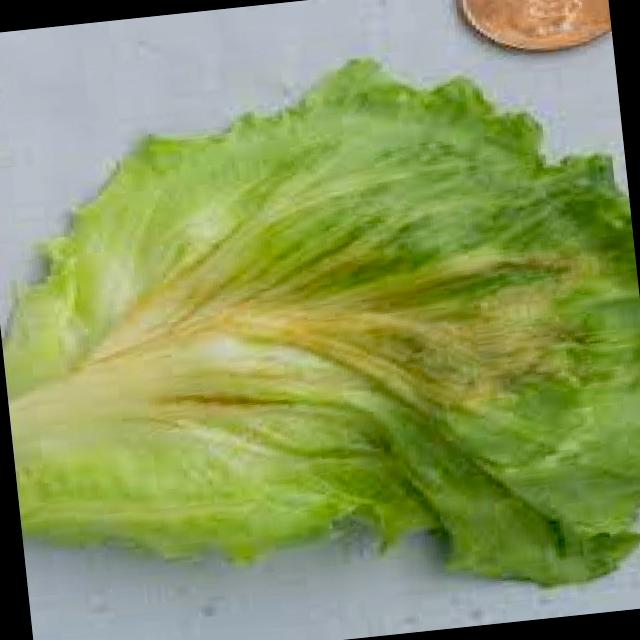Downy_mildew_on_lettuce: (108, 183, 623, 497)
